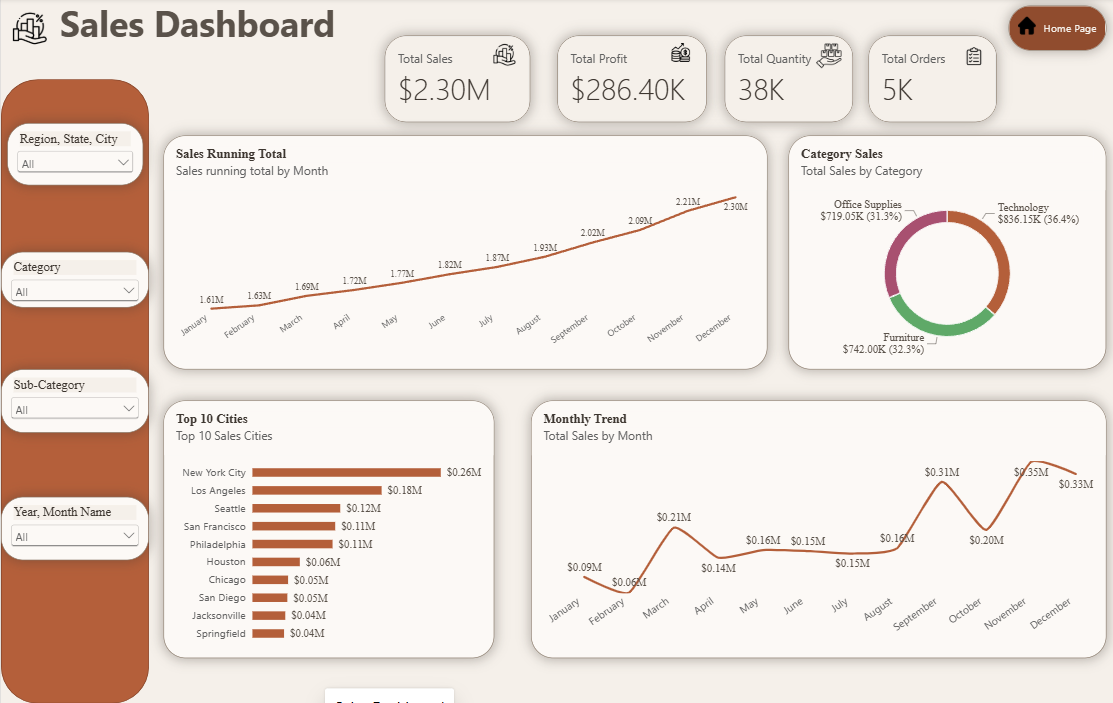

This screenshot's page, from the dashboard's own definition file:
{"tool":"powerbi","page":{"name":"Sales Dashboard","canvas":[1500,950],"ordinal":1},"visuals":[{"type":"shape","box":[0,109.3,199.4,841],"z":0},{"type":"textbox","box":[79,0,481,77.7],"z":1000},{"type":"image","box":[0,17.7,77.7,45],"z":2000},{"type":"donutChart","title":"Category Sales","fields":{"Category":["Orders.Category"],"Y":["Orders.Total Sales"]},"box":[1098.3,184.9,390.8,315.2],"z":3000},{"type":"barChart","title":"Top 10 Cities","fields":{"Category":["Orders.City"],"Y":["Orders.Total Sales"]},"box":[218.1,542.8,445.7,347],"z":4000},{"type":"lineChart","title":"Monthly Trend","fields":{"Category":["Calendar.Month Name"],"Y":["Orders.Total Sales"]},"box":[713.1,542.8,775.2,347],"z":5000},{"type":"cardVisual","fields":{"Data":["Orders.Total Sales"]},"box":[517.3,50.9,196.2,117.2],"z":6000},{"type":"cardVisual","fields":{"Data":["Orders.Total Profit"]},"box":[749.8,50.9,201.7,117.2],"z":7000},{"type":"cardVisual","fields":{"Data":["Orders.Total Order"]},"box":[1168.4,50.9,173.1,117.2],"z":8000},{"type":"cardVisual","fields":{"Data":["Orders.Total Quantity"]},"box":[974.2,50.9,173.1,117.2],"z":9000},{"type":"image","box":[896.2,58.9,39.5,28.6],"z":10000},{"type":"image","box":[1298.9,63.7,24.5,28.6],"z":11000},{"type":"image","box":[1098.4,55.7,34.1,45],"z":12000},{"type":"image","box":[663.8,58.9,30,35.4],"z":13000},{"type":"lineChart","title":"Sales Running Total ","fields":{"Category":["Calendar.Month Name"],"Y":["Orders.Total Sales running total in Date"]},"box":[218.7,184.9,853.9,315.2],"z":14000},{"type":"actionButton","box":[1357.2,9.6,131.9,61.1],"z":15000},{"type":"image","box":[1357.2,25.7,49.9,24.1],"z":16000},{"type":"slicer","fields":{"Values":["Orders.Sub-Category"]},"box":[0,500.1,199.4,85.2],"z":17000},{"type":"slicer","fields":{"Values":["Orders.Category"]},"box":[0,342.5,199.4,75.6],"z":18000},{"type":"slicer","fields":{"Values":["Orders.Region","Orders.State","Orders.City"]},"box":[8,168.8,183.3,83.6],"z":19000},{"type":"slicer","fields":{"Values":["Calendar.Year","Calendar.Month Name"]},"box":[0,672.2,199.4,85.2],"z":20000}]}

Visuals, with their boxes in screenshot pixels (x1, y1, x2, y2), scaled from the page's 1500x950 canvas onto the 1113x703 screenshot:
shape: x1=0 y1=81 x2=148 y2=702
textbox: x1=59 y1=0 x2=416 y2=57
image: x1=0 y1=13 x2=58 y2=46
"Category Sales" donutChart: x1=815 y1=137 x2=1105 y2=370
"Top 10 Cities" barChart: x1=162 y1=402 x2=493 y2=658
"Monthly Trend" lineChart: x1=529 y1=402 x2=1104 y2=658
cardVisual - Orders.Total Sales: x1=384 y1=38 x2=529 y2=124
cardVisual - Orders.Total Profit: x1=556 y1=38 x2=706 y2=124
cardVisual - Orders.Total Order: x1=867 y1=38 x2=995 y2=124
cardVisual - Orders.Total Quantity: x1=723 y1=38 x2=851 y2=124
image: x1=665 y1=44 x2=694 y2=65
image: x1=964 y1=47 x2=982 y2=68
image: x1=815 y1=41 x2=840 y2=75
image: x1=493 y1=44 x2=515 y2=70
"Sales Running Total " lineChart: x1=162 y1=137 x2=796 y2=370
actionButton: x1=1007 y1=7 x2=1105 y2=52
image: x1=1007 y1=19 x2=1044 y2=37
slicer - Orders.Sub-Category: x1=0 y1=370 x2=148 y2=433
slicer - Orders.Category: x1=0 y1=253 x2=148 y2=309
slicer - Orders.Region x Orders.State: x1=6 y1=125 x2=142 y2=187
slicer - Calendar.Year x Calendar.Month Name: x1=0 y1=497 x2=148 y2=560
